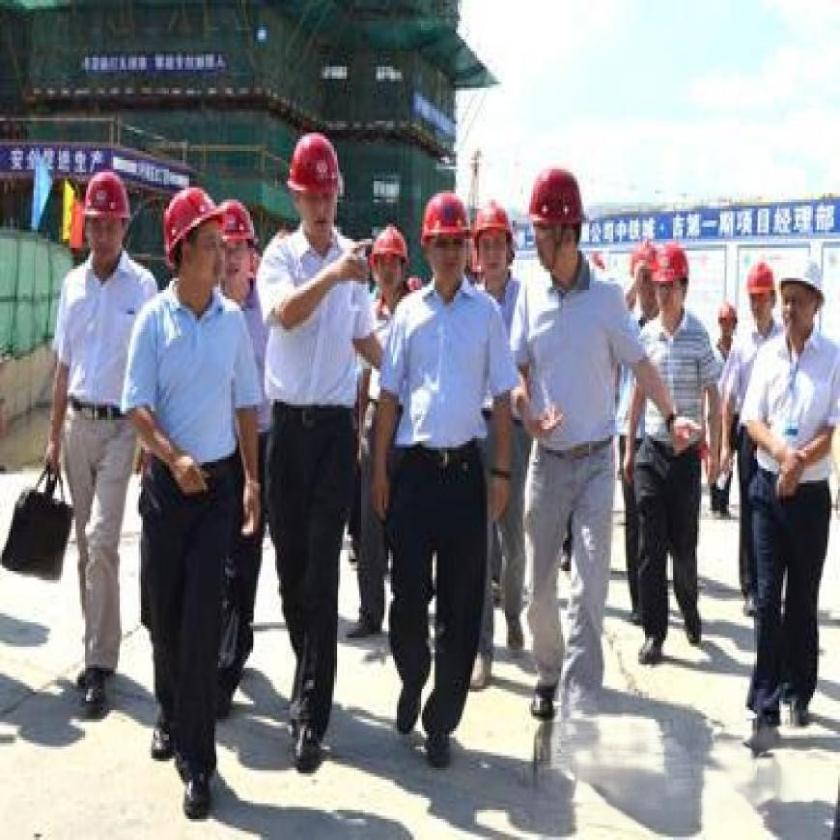Con_casco: (283, 110, 352, 253), (523, 163, 597, 291), (160, 182, 232, 306), (75, 159, 136, 267), (418, 181, 470, 293), (649, 232, 690, 320)
